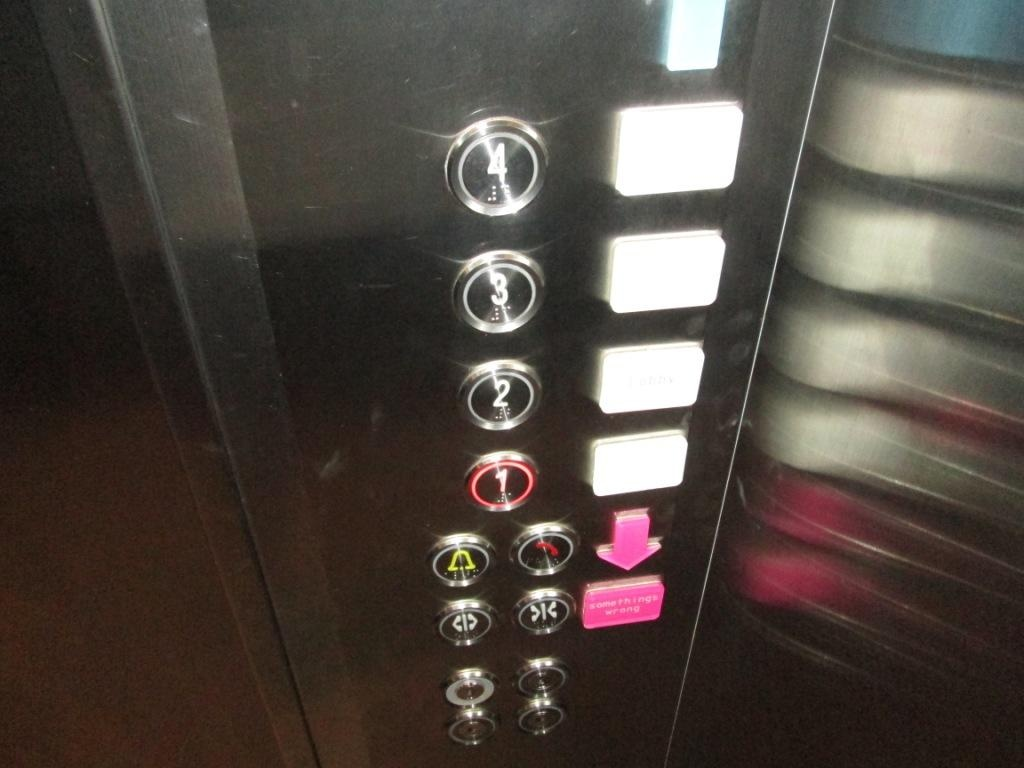1: (460, 451, 540, 512)
2: (456, 359, 542, 430)
3: (451, 251, 545, 333)
4: (444, 114, 552, 218)
alarm: (422, 531, 497, 586)
call: (508, 521, 581, 577)
close: (509, 585, 578, 634)
keyhole: (512, 654, 570, 696), (442, 668, 498, 706), (512, 700, 568, 738), (444, 708, 498, 746)
open: (430, 596, 502, 649)
